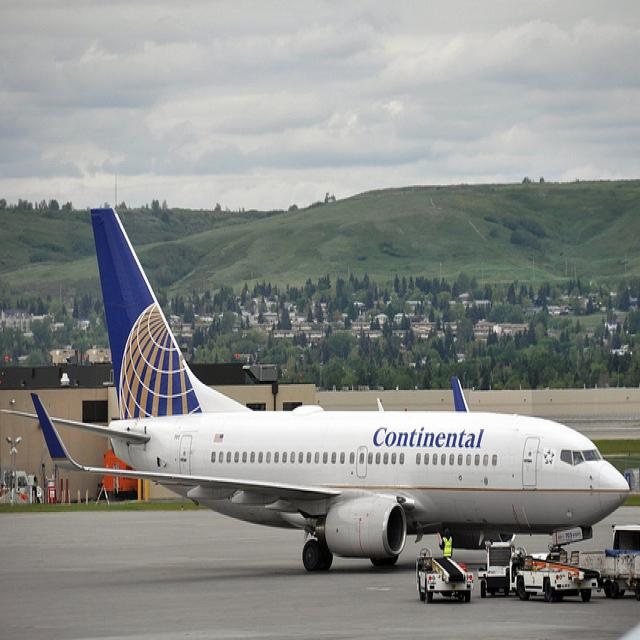Vehicle: (478, 541, 586, 603), (569, 524, 640, 600), (415, 547, 475, 604)
